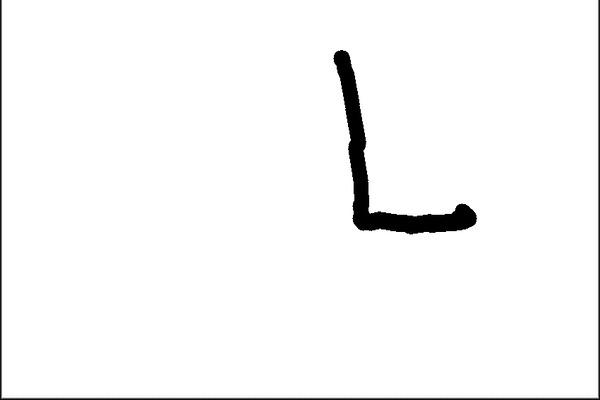L: (321, 43, 484, 242)
